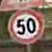limite 50: (6, 8, 44, 44)
